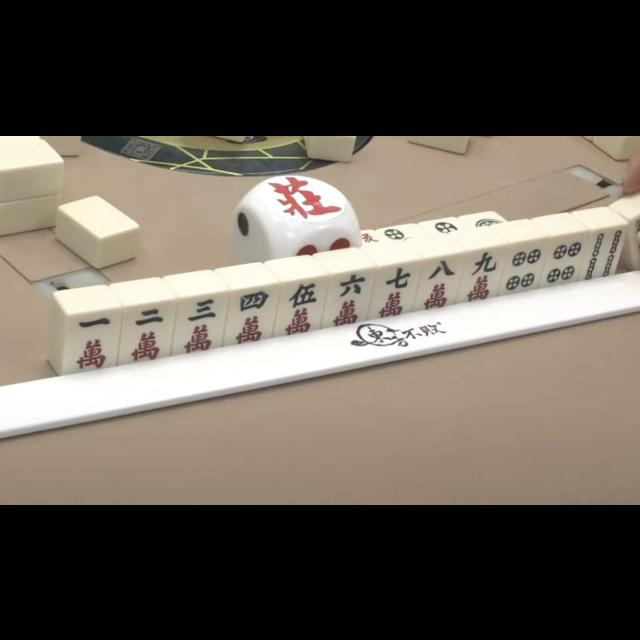b4: (584, 222, 624, 278)
c1: (64, 311, 118, 373)
c2: (120, 302, 173, 363)
c3: (175, 294, 225, 352)
c4: (227, 287, 275, 345)
c5: (277, 279, 325, 335)
c6: (326, 270, 372, 328)
c7: (372, 262, 418, 314)
c8: (420, 256, 460, 310)
c9: (461, 249, 503, 301)
d4: (544, 234, 584, 284), (505, 240, 543, 290)
